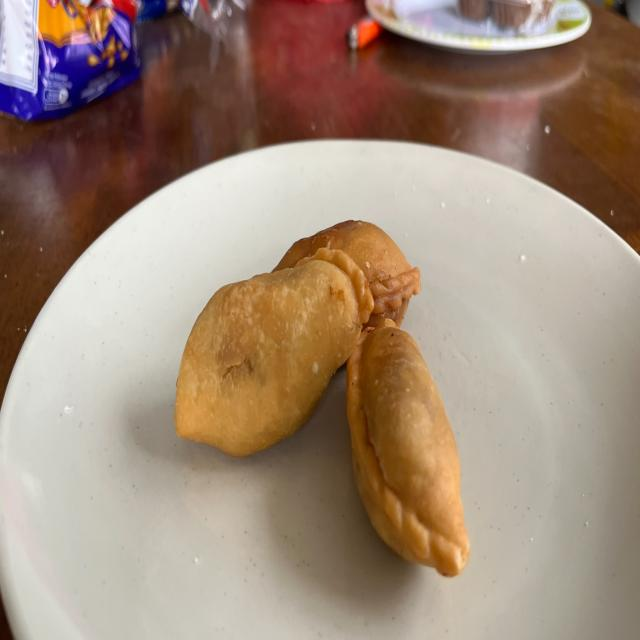karipap: (175, 247, 374, 456), (348, 322, 470, 576), (275, 220, 421, 327)
